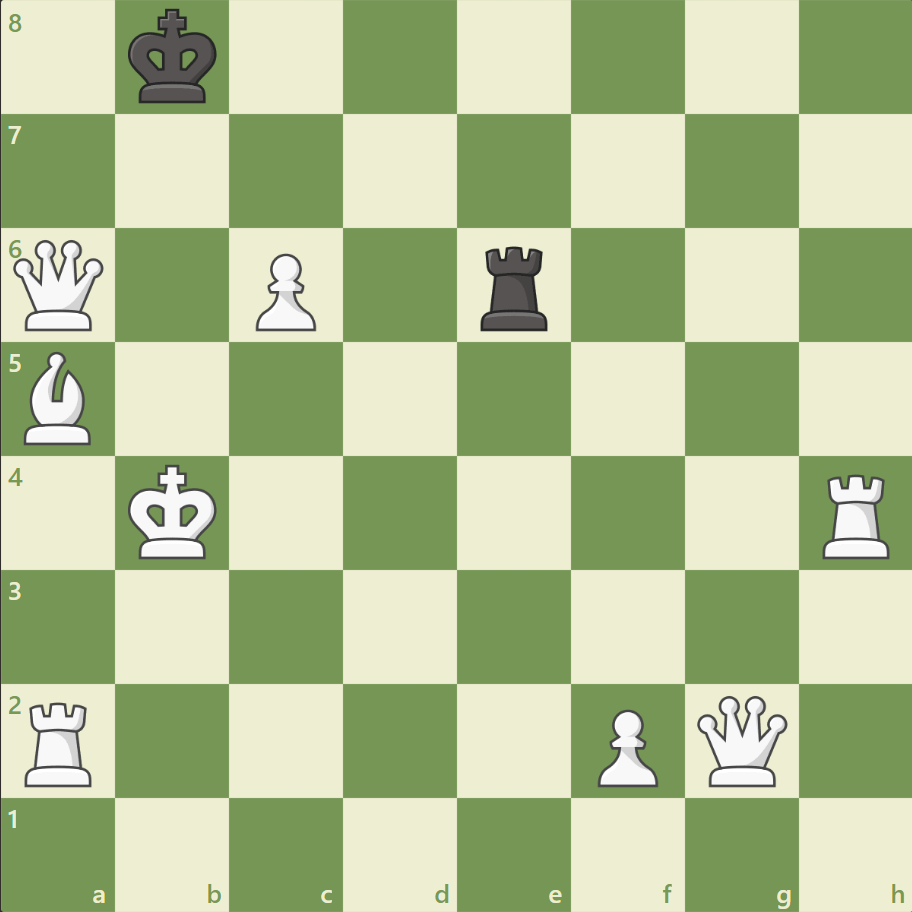B: (17, 347, 101, 449)
K: (124, 458, 224, 566)
P: (247, 246, 322, 337), (588, 700, 662, 791)
Q: (10, 236, 109, 335), (691, 690, 790, 789)
R: (814, 466, 897, 563), (19, 693, 102, 790)
k: (124, 4, 224, 112)
r: (473, 239, 556, 336)
